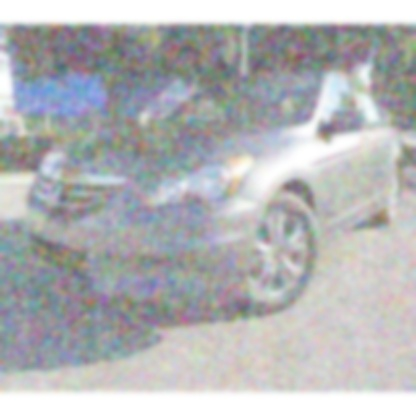Vehicle: (28, 70, 404, 316)
